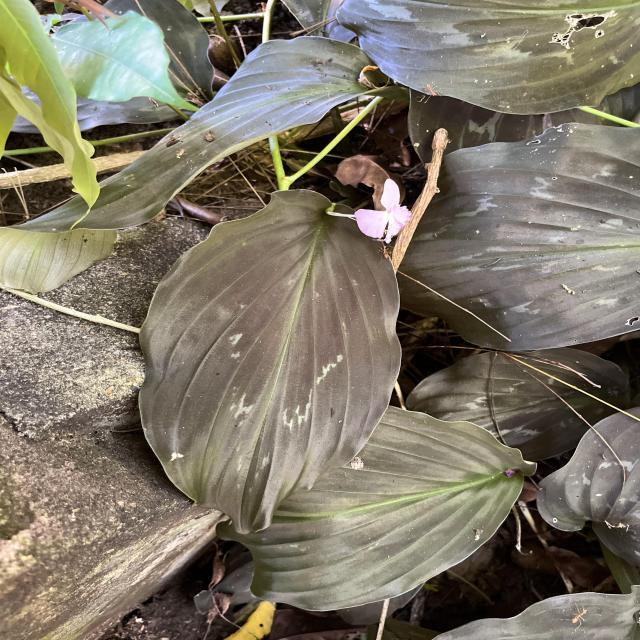Kaempferia galanga linn: (134, 185, 405, 537)
